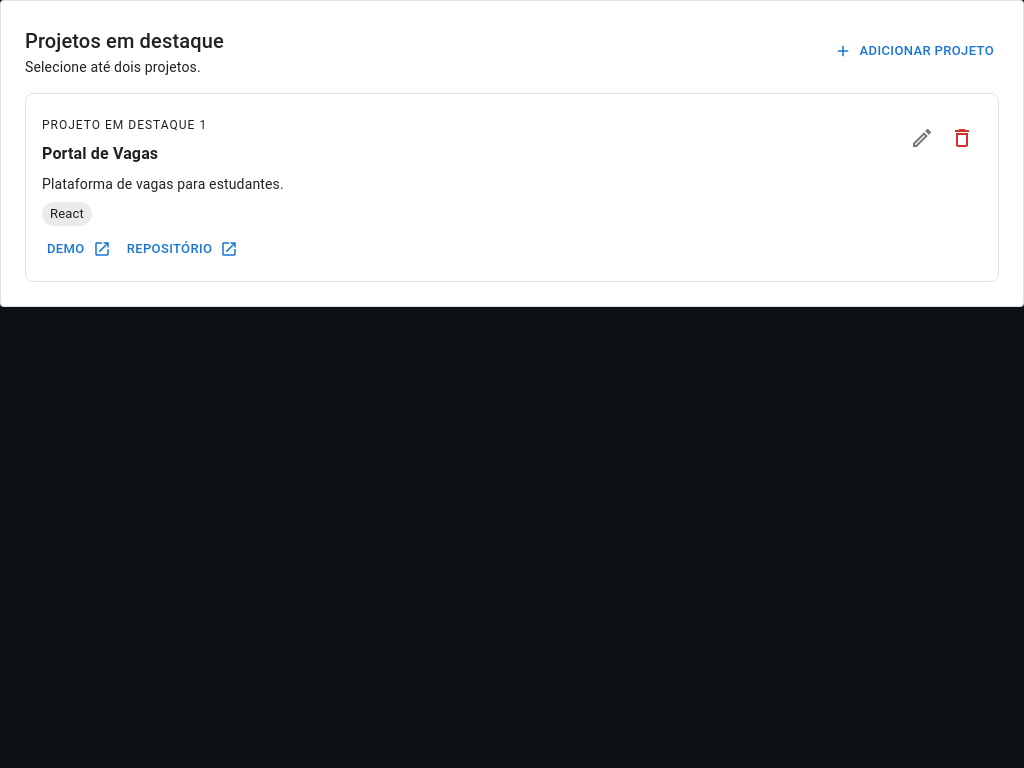
Test: ProjetosSection add form › suggests position 2 when position 1 is already occupied
Check: the text "Portal de Vagas" is shown, box x1=42 y1=144 x2=158 y2=163
Click the button "Adicionar projeto": (915,51) x1=831 y1=36 x2=999 y2=66
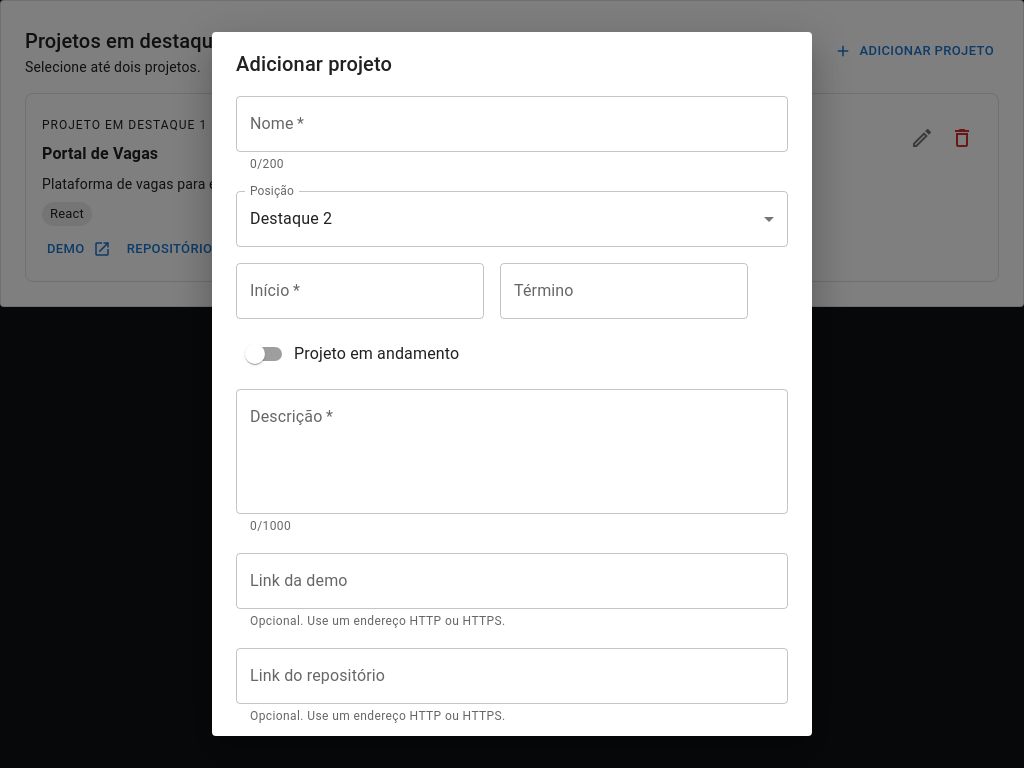
Check: the dropdown named "Posição" reads "Destaque 2", box x1=250 y1=209 x2=332 y2=228
